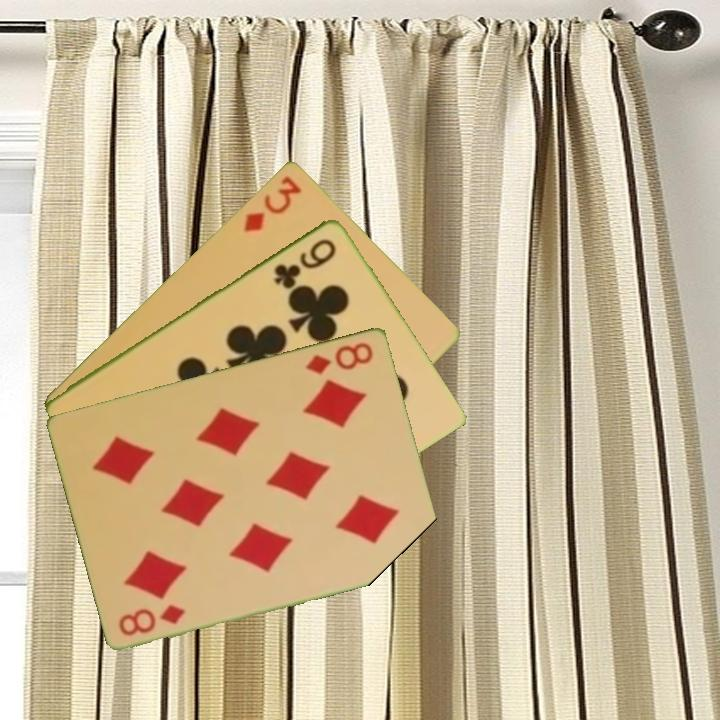3d: (240, 171, 305, 235)
8d: (302, 338, 376, 377), (115, 600, 188, 639)
9c: (270, 234, 340, 290)
